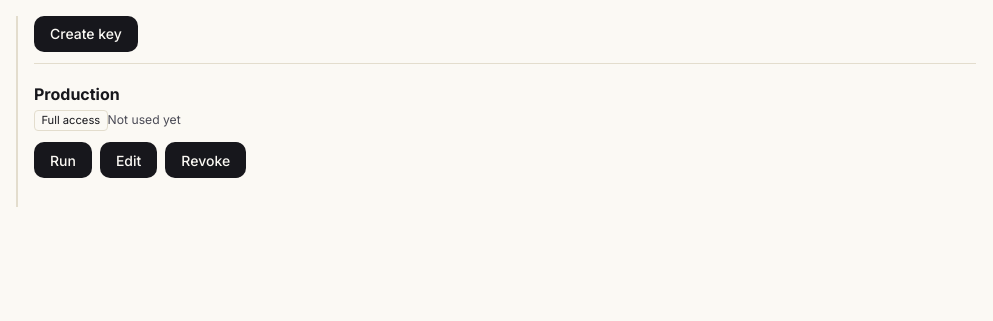
Scenario: a failed revoke stays visible and does not remove the row
What coordinates should you click on to do the following:
click the button with aria-label "Revoke Production"
I would click on:
 (206, 160)
Its box is [165,142,246,178].
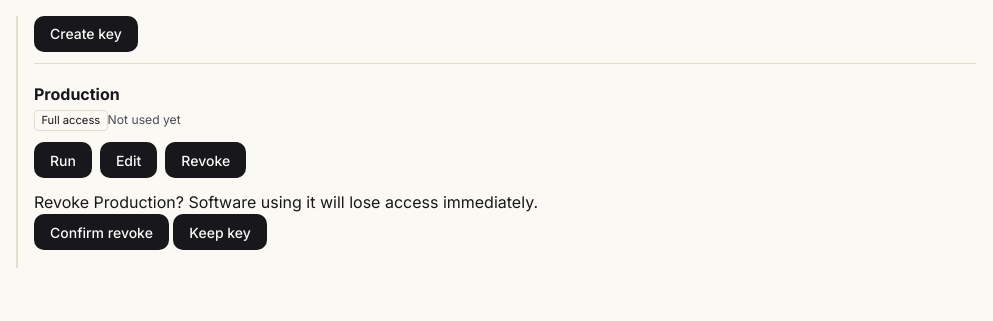
What coordinates should you click on to do the following:
click the button "Confirm revoke"
I would click on:
 (101, 232)
Its box is [34,214,169,250].
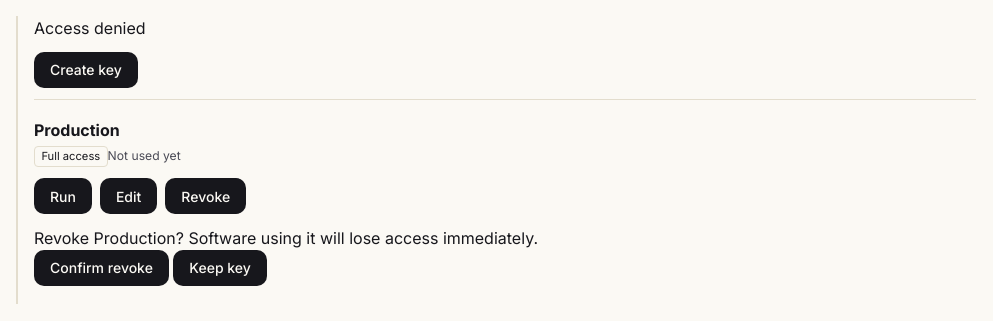
Expected: the text "Production" is shown, [34,118,120,142]
Now the text "Access denied" is shown, box [34,18,146,38]
